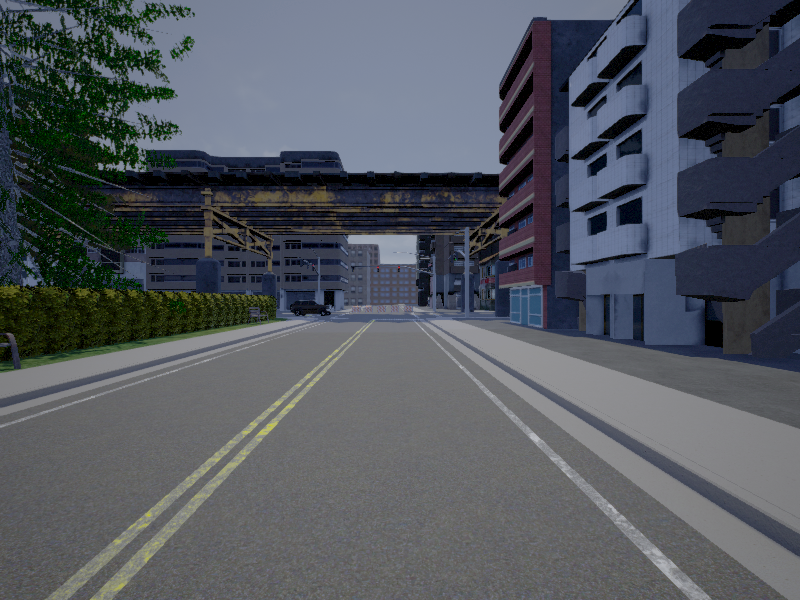Benign: (288, 299, 332, 318)
